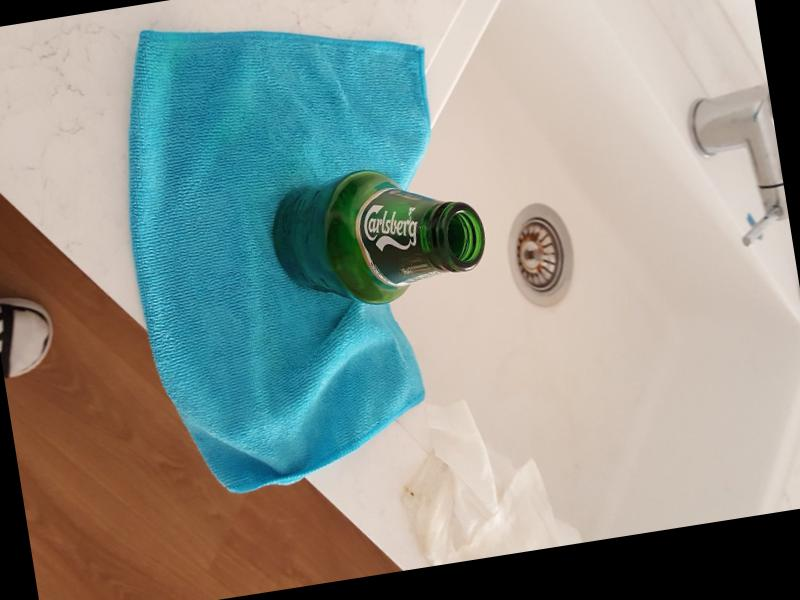Beer: (263, 159, 490, 320)
